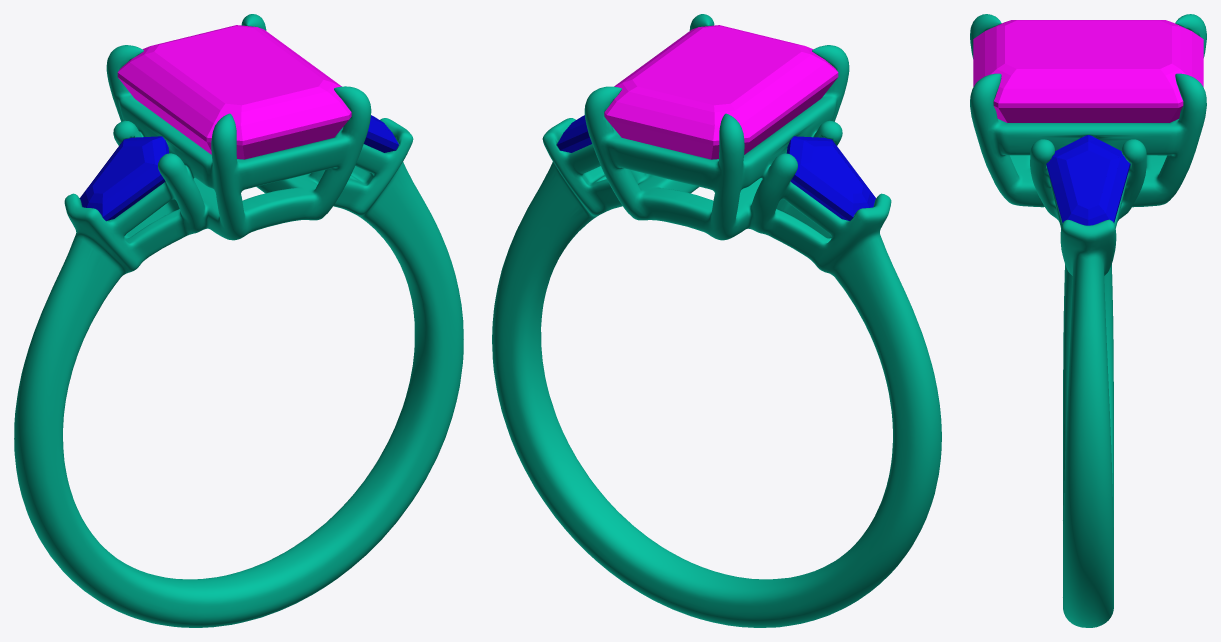
Rendered from BE1D147_EM_200ct_RENDER.glb.
3 renders of one model, left to right at view 1: azimuth 30°, elevation 25°; view 2: azimuth 150°, elevation 25°; view 3: azimuth 270°, elevation 25°, orthographic.
Parts seen in each view (by area): view 1: Metal 01, CS_Diamond_Emerald, Diamond_Marquise_side, Diamond_Marquise_side.001; view 2: Metal 01, CS_Diamond_Emerald, Diamond_Marquise_side, Diamond_Marquise_side.001; view 3: Metal 01, CS_Diamond_Emerald, Diamond_Marquise_side.001.
Boxes of the visible parts, left/top/right/bottom form: Metal 01: left=14, top=14, right=463, bottom=627; CS_Diamond_Emerald: left=117, top=25, right=351, bottom=159; Diamond_Marquise_side: left=79, top=136, right=168, bottom=220; Diamond_Marquise_side.001: left=364, top=115, right=398, bottom=152; Metal 01: left=492, top=14, right=941, bottom=627; CS_Diamond_Emerald: left=604, top=25, right=838, bottom=159; Diamond_Marquise_side: left=786, top=136, right=875, bottom=220; Diamond_Marquise_side.001: left=557, top=115, right=591, bottom=152; Metal 01: left=970, top=14, right=1206, bottom=627; CS_Diamond_Emerald: left=973, top=20, right=1203, bottom=122; Diamond_Marquise_side.001: left=1046, top=135, right=1130, bottom=225.
Bounding box in the file's own units: 20.13 × 24.09 × 9.25.
